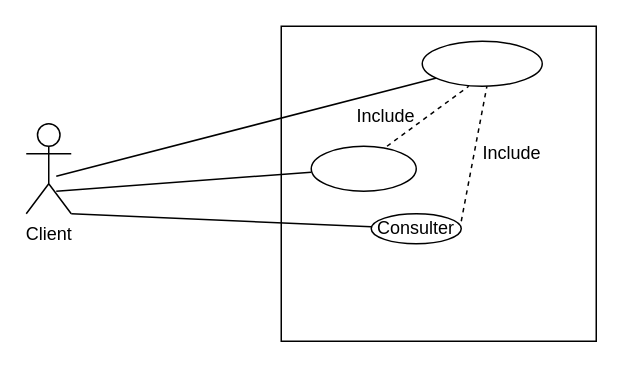
Some shapes in this 623 by 368 pixel diagram are drawn without their labels. Each missing label, with the centre of its shape:
Retirer: (363,168)
Se connecter: (481,63)
